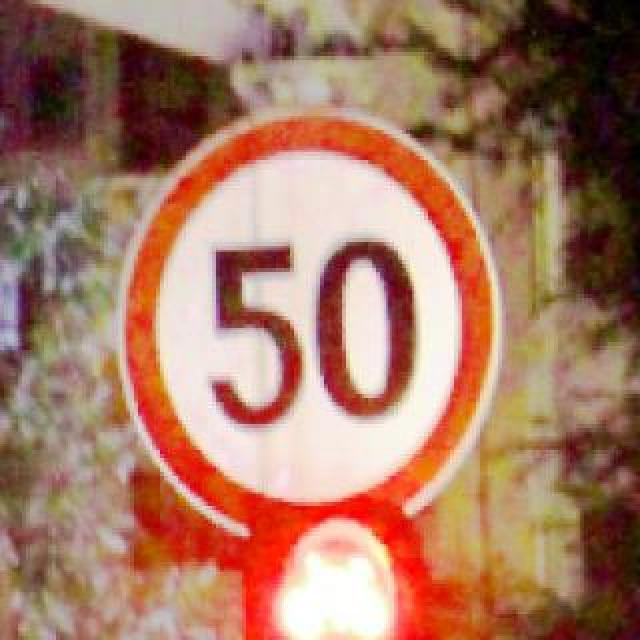50 kph: (116, 104, 504, 544)
